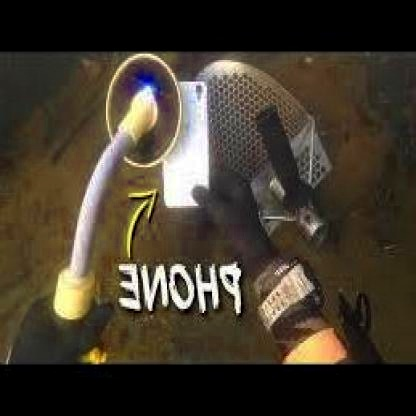cellphone: (160, 80, 214, 212)
